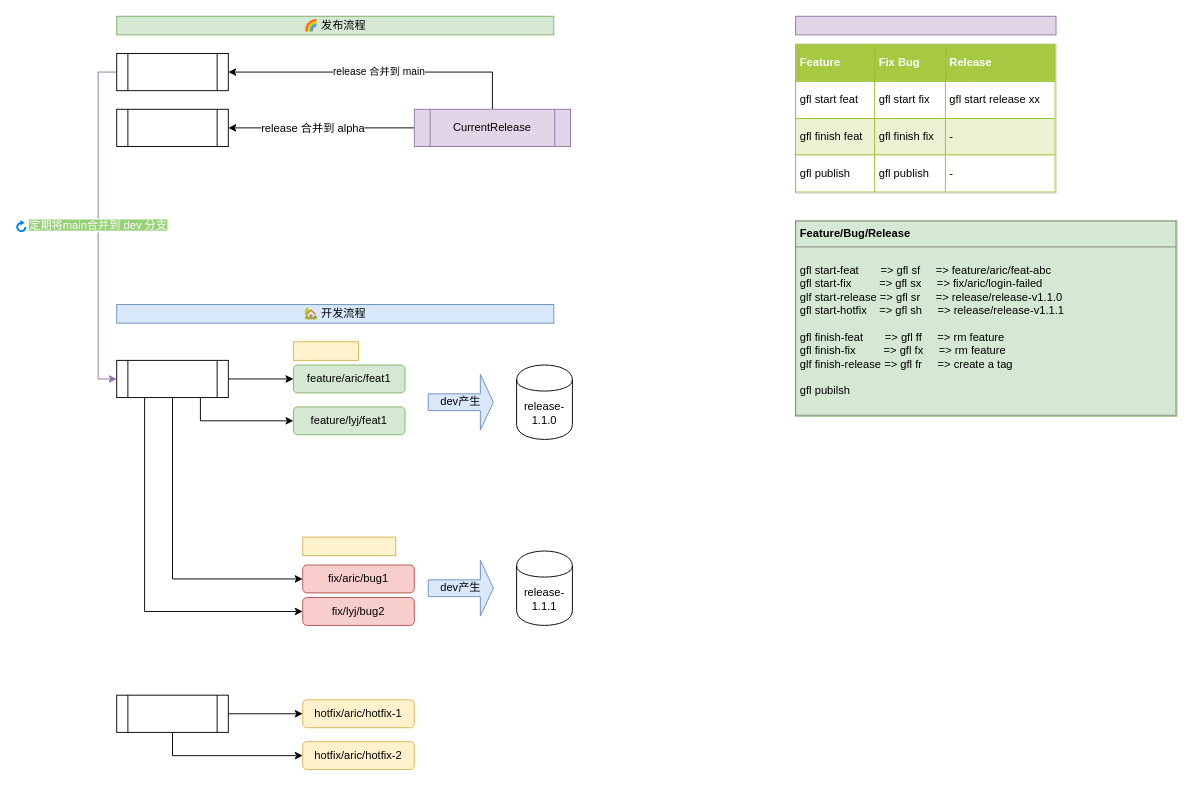
This 1193x786 diagram has some shape labels left out. Each missing label, with the centre of its shape:
"alpha" belongs at (172,127).
"alpha(uat)" belongs at (172,713).
"develop(dev)" belongs at (172,378).
"main(master)" belongs at (172,72).
"开启新功能" belongs at (325,350).
"开始修复BUG" belongs at (349,546).
"🎩 命令行 gfl" belongs at (925,25).
